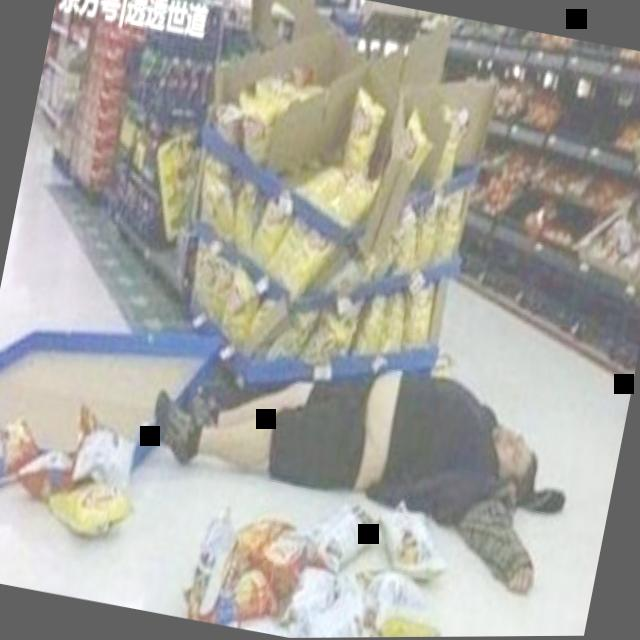Fall-Detected: (125, 289, 600, 594)
